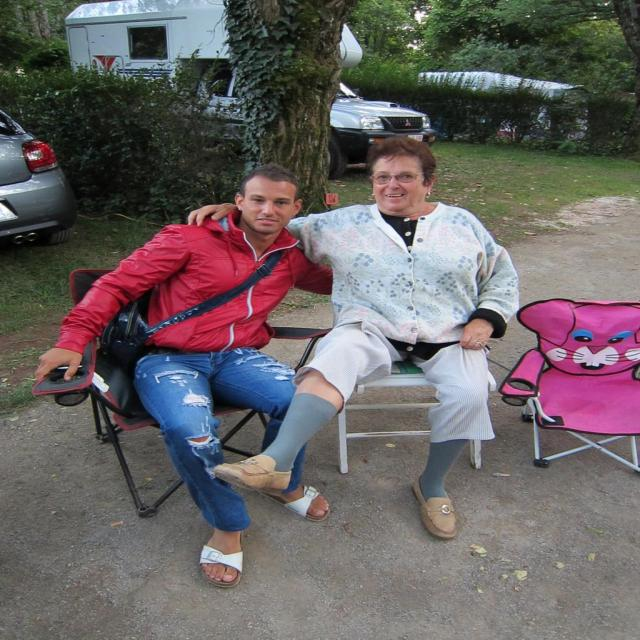nomask: (240, 184, 295, 232), (372, 159, 420, 207)
